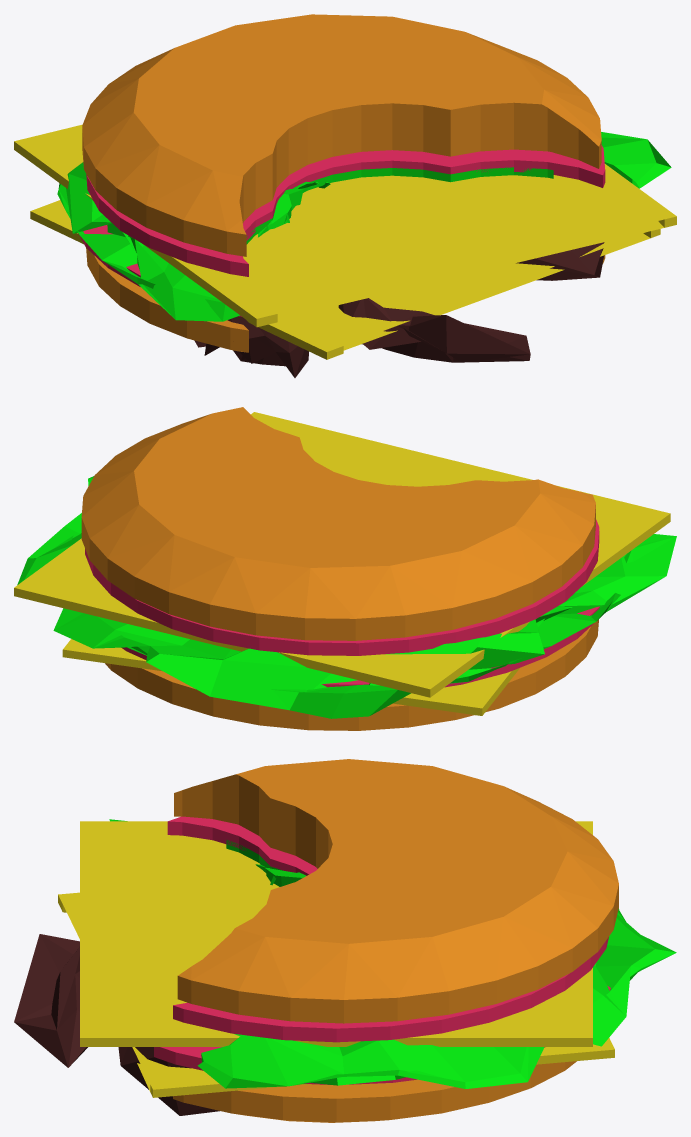
The model's file is burger.fbx.
3 views of the same model, one above another, from view 1: azimuth 30°, elevation 25°; view 2: azimuth 150°, elevation 25°; view 3: azimuth 270°, elevation 25° (orthographic). The views are drawn at different scales.
Visible parts, largest first — view 1: Top Bun, Cube, Torus.001, Cube.001, Cylinder.008, Icosphere.001, Cylinder.001, Cylinder.007, Icosphere.004, Icosphere.002; view 2: Top Bun, Torus.001, Cube, Cylinder.001, Cylinder.008, Cube.001, Cylinder.005; view 3: Top Bun, Cube, Torus.001, Cylinder.008, Cylinder.001, Icosphere.001, Cube.001, Icosphere.002, Cylinder.005.
Part boxes in pixels (x1,y1,x2,y2): Top Bun: (82,14,601,256); Cube: (14,124,676,327); Torus.001: (57,132,671,321); Cube.001: (30,200,660,359); Cylinder.008: (86,145,605,276); Icosphere.001: (338,298,530,362); Cylinder.001: (86,248,605,352); Cylinder.007: (246,167,553,244); Icosphere.004: (204,316,308,377); Icosphere.002: (194,242,604,347); Top Bun: (81,407,595,640); Torus.001: (17,476,676,718); Cube: (14,412,670,697); Cylinder.001: (105,619,598,730); Cylinder.008: (85,519,599,655); Cube.001: (62,639,519,715); Cylinder.005: (121,606,599,687); Top Bun: (174,759,618,1023); Cube: (80,821,592,1046); Torus.001: (109,819,676,1088); Cylinder.008: (167,816,608,1042); Cylinder.001: (173,1061,576,1122); Icosphere.001: (14,934,87,1067); Cube.001: (58,892,614,1097); Icosphere.002: (118,1047,219,1115); Cylinder.005: (154,986,610,1084).
Size of the model in its own units: 235 by 84.43 by 241.
